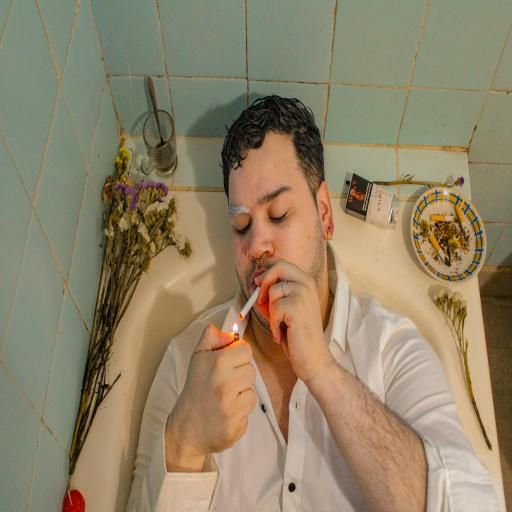lighter: (212, 296, 262, 367)
